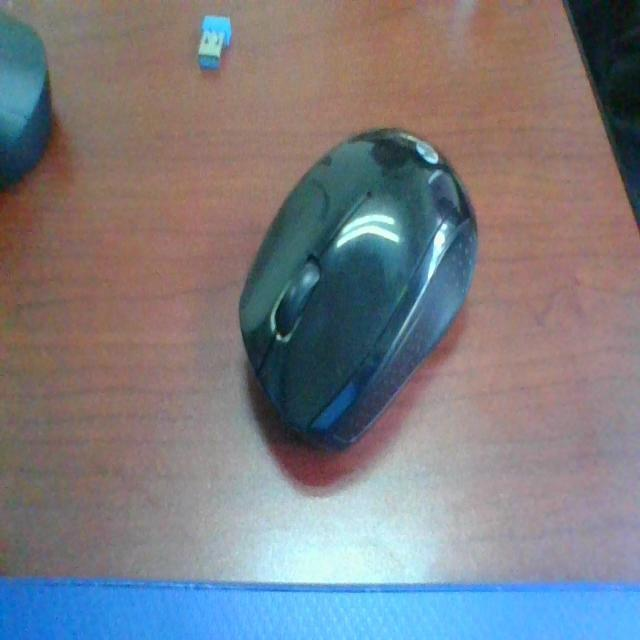Mouse: (231, 116, 501, 477)
